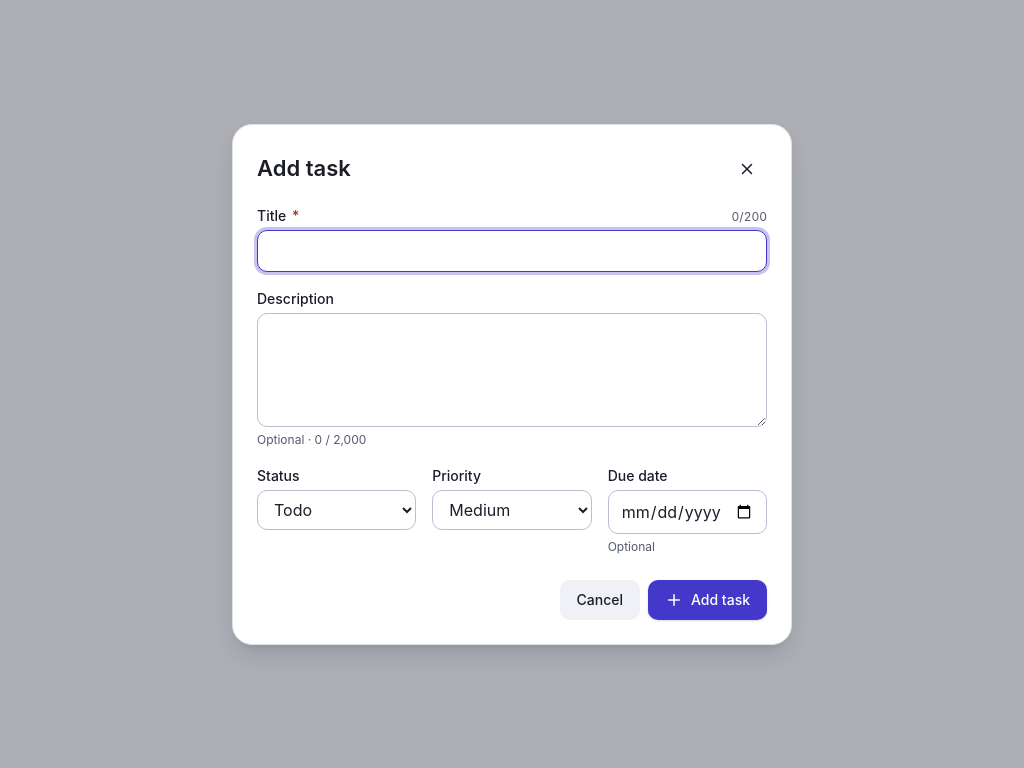
Test: TaskFormDialogComponent › shows unknown-field and general server errors in the form alert
This screenshot has width=1024, height=768.
Type "x" into the field with id "task-title" at (512, 250), box top-left (257, 230), bottom-right (767, 272)
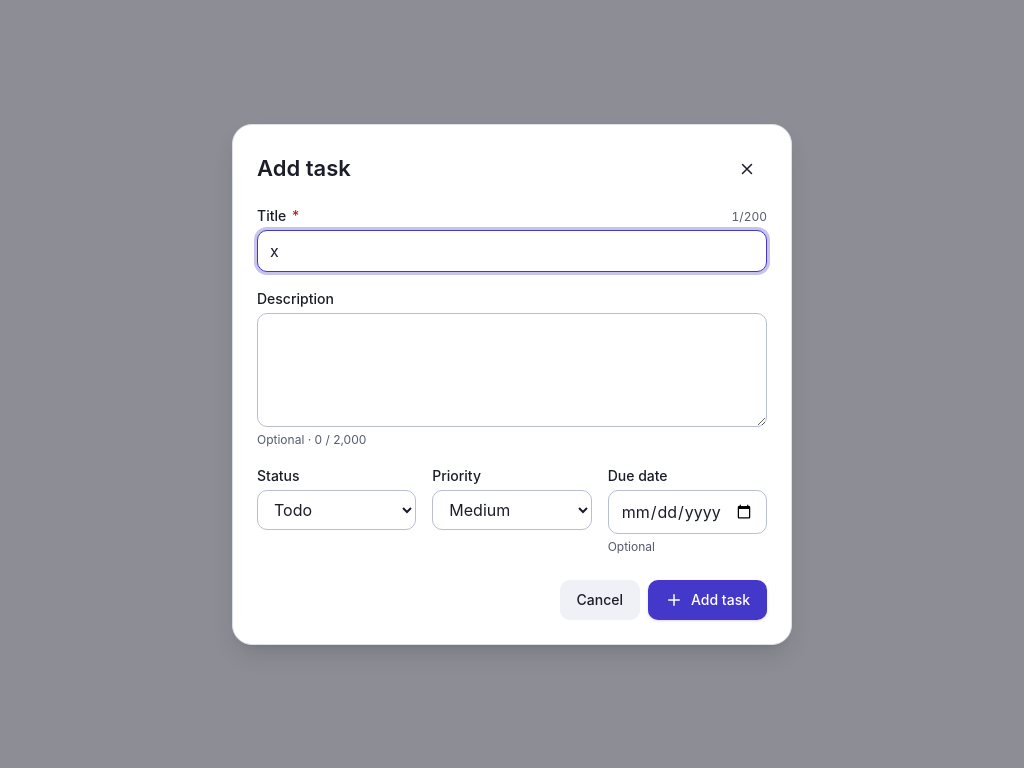
Submit the form, box top-left (233, 124), bottom-right (791, 644)
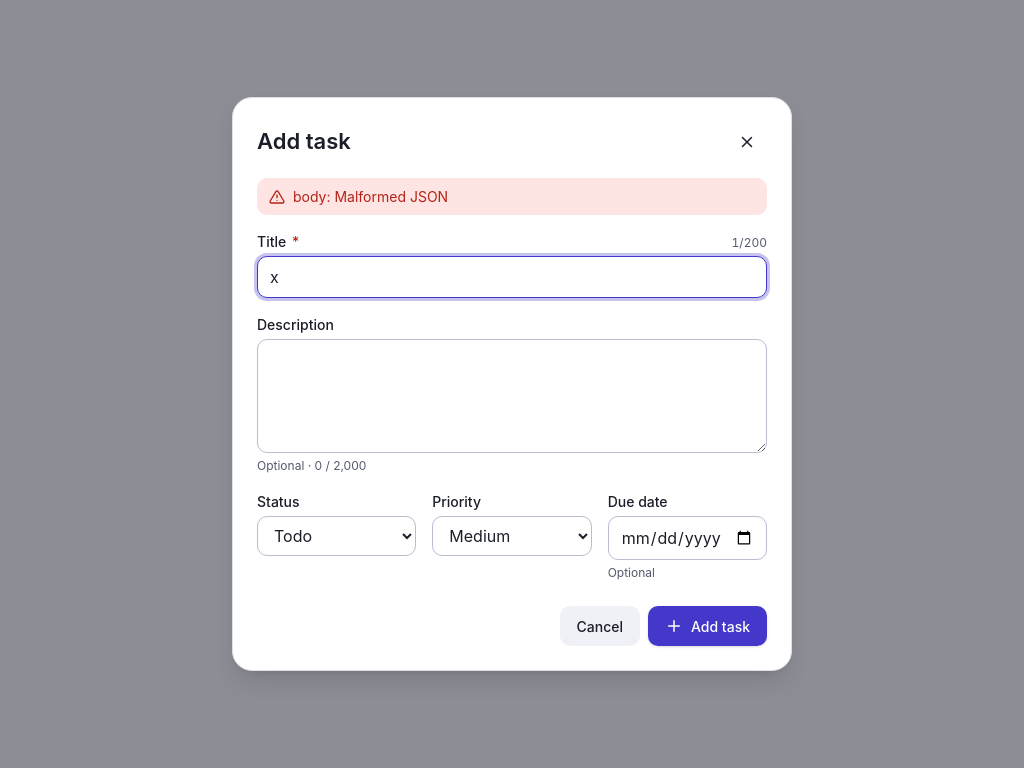
Expected: the message with class "form__alert" reads "body: Malformed JSON", top-left (293, 188), bottom-right (448, 205)
Submit the form, box top-left (233, 98), bottom-right (791, 670)
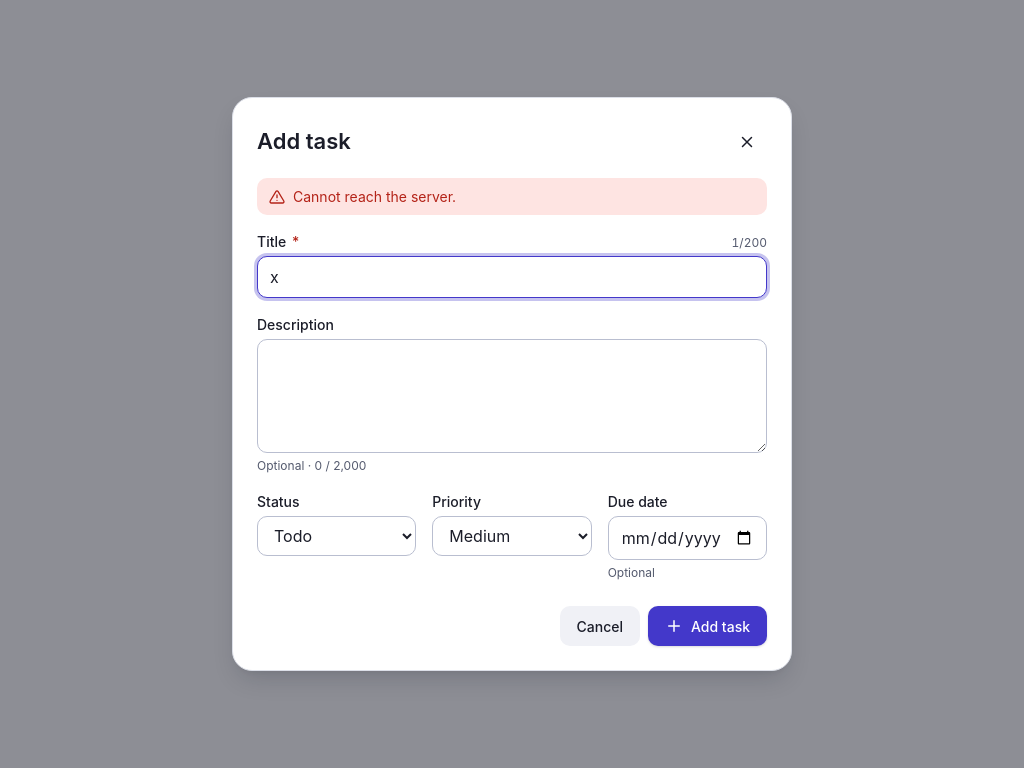
Expected: the message with class "form__alert" reads "Cannot reach the server.", top-left (293, 188), bottom-right (456, 205)
